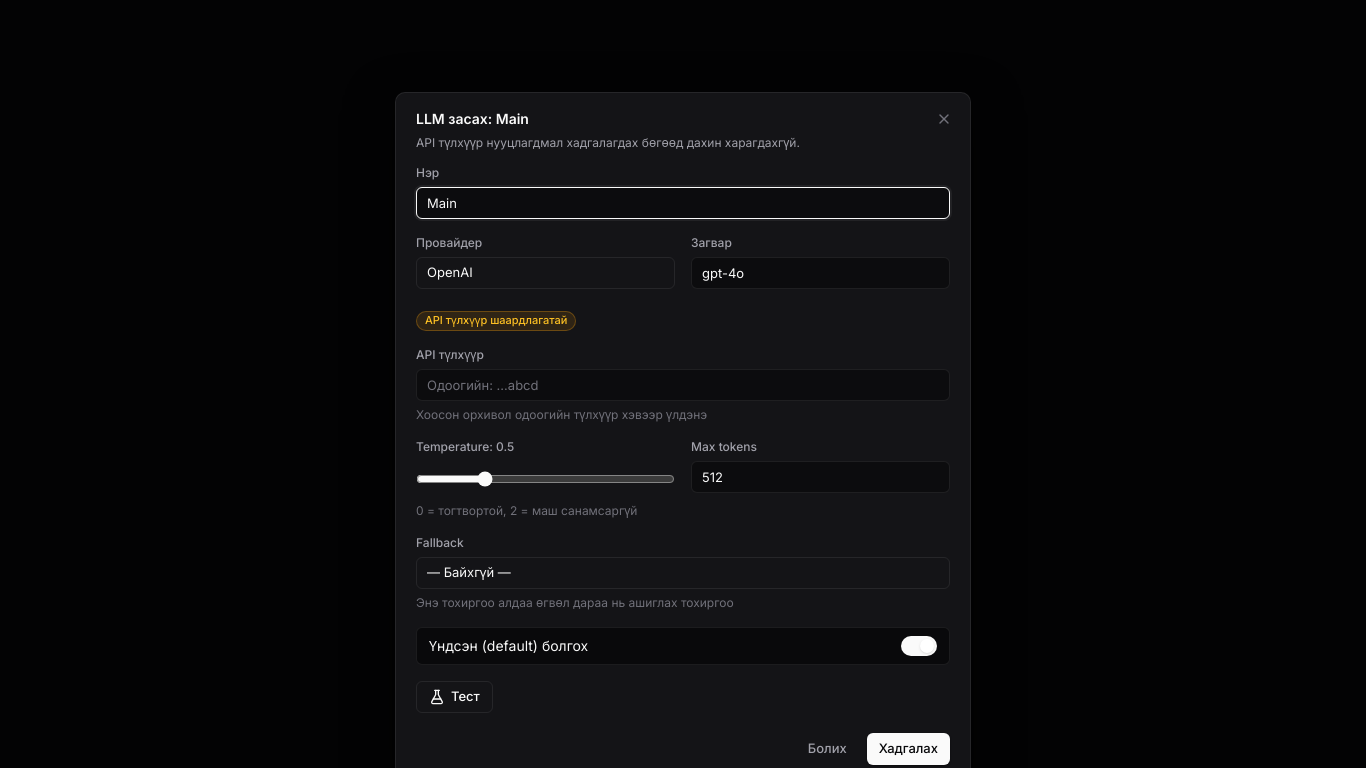
LLMConfigDialog › test button shows the reply and latency
Click the button "Тест" at (454, 697), box [416, 681, 493, 713]
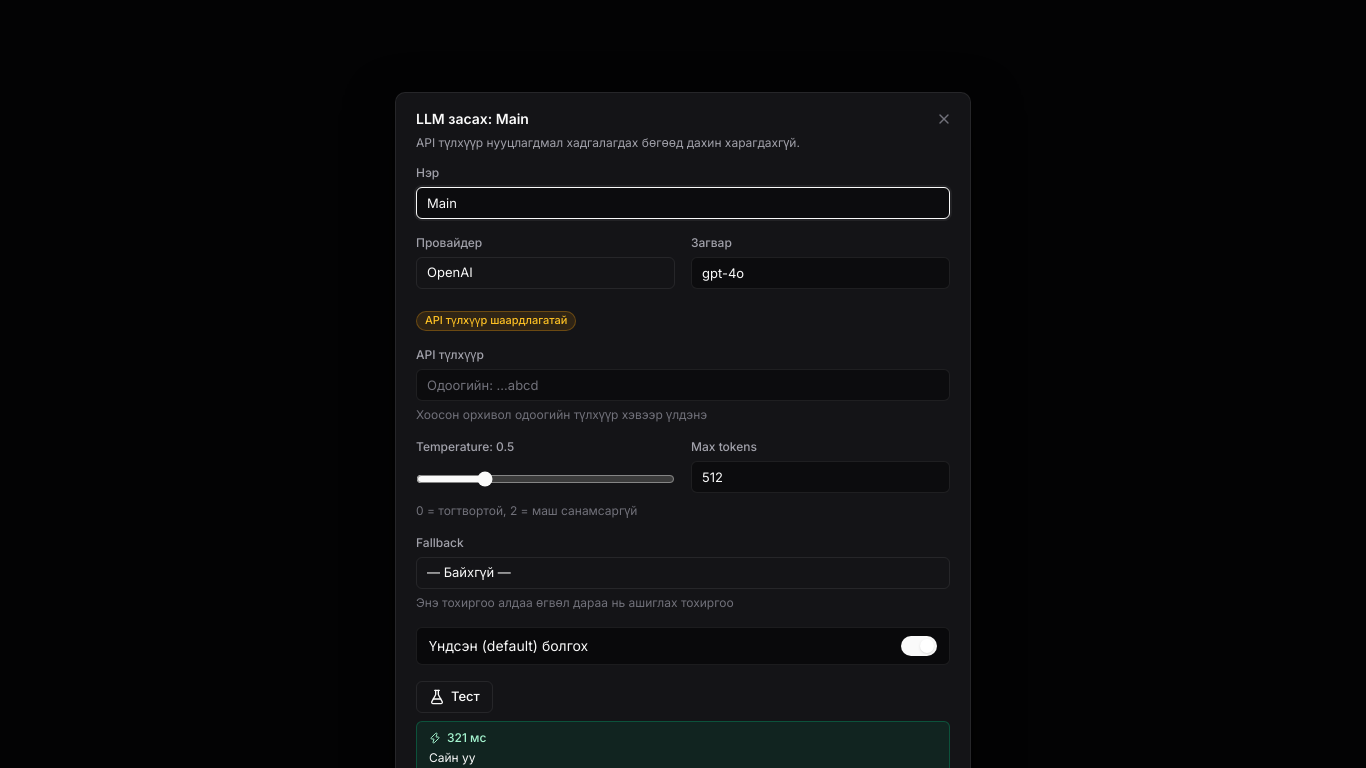
Now the text "Сайн уу" is shown, box [429, 750, 476, 765]
Now the text "321 мс" is shown, box [429, 730, 486, 745]
